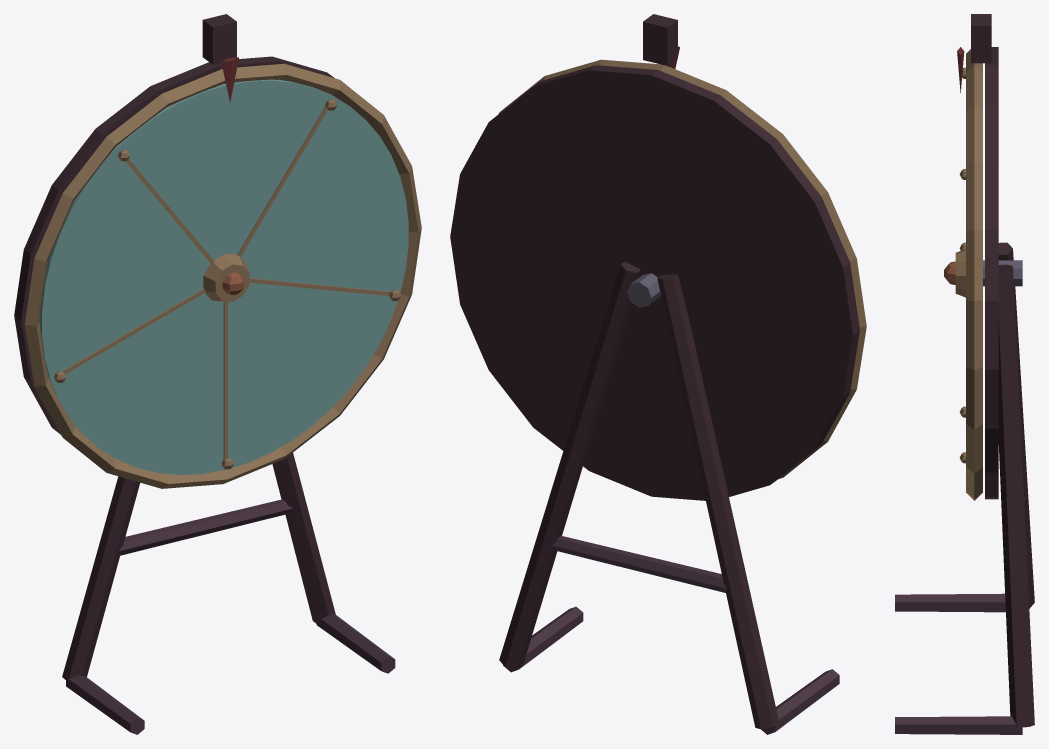
File: roata.glb
The picture shows the model from 3 angles, left to right: view 1: azimuth 30°, elevation 25°; view 2: azimuth 150°, elevation 25°; view 3: azimuth 270°, elevation 25°; orthographic projection. The views are drawn at different scales.
Parts seen in each view (by area): view 1: Disc, SegPortocaliu, SegGri, SegMov, SegVerde, SegAlbastru, Stand; view 2: Disc, Stand; view 3: Stand, Disc.
Part boxes in pixels (box(x1,y1,x2,y2)): Disc: box(14, 56, 421, 488); SegPortocaliu: box(39, 147, 210, 379); SegGri: box(115, 79, 332, 259); SegMov: box(49, 293, 225, 474); SegVerde: box(241, 96, 408, 292); SegAlbastru: box(225, 282, 397, 469); Stand: box(62, 14, 395, 734); Disc: box(450, 59, 866, 500); Stand: box(499, 14, 839, 734); Stand: box(895, 14, 1034, 734); Disc: box(944, 47, 998, 500).
Size of the model in its own units: 1.33 by 2.09 by 0.405.
